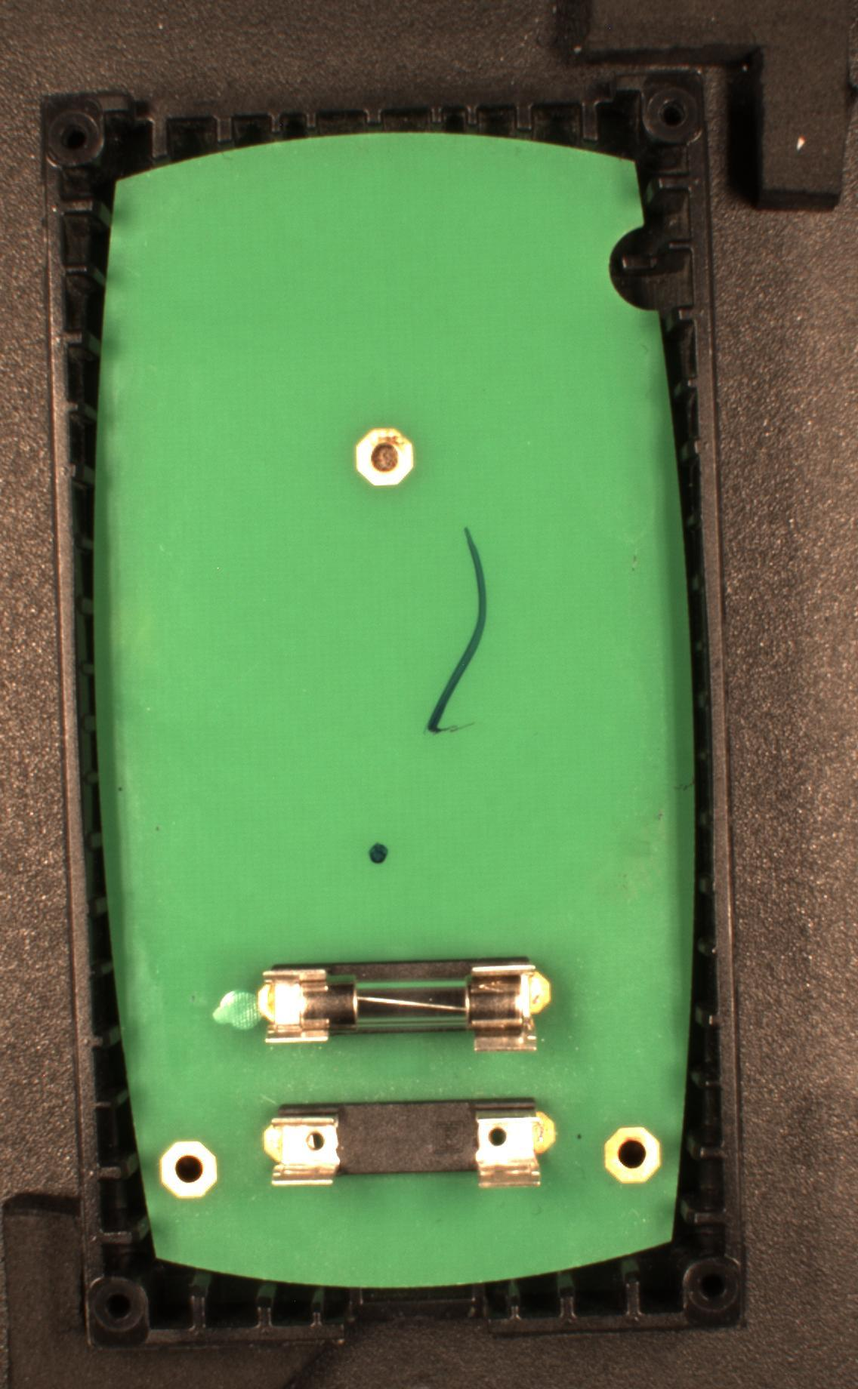Linijsko Ostecene: (424, 527, 488, 735)
Nepostojanje osiguraca: (262, 1096, 557, 1189)
Tockasto Ostecenje: (367, 841, 392, 865)
